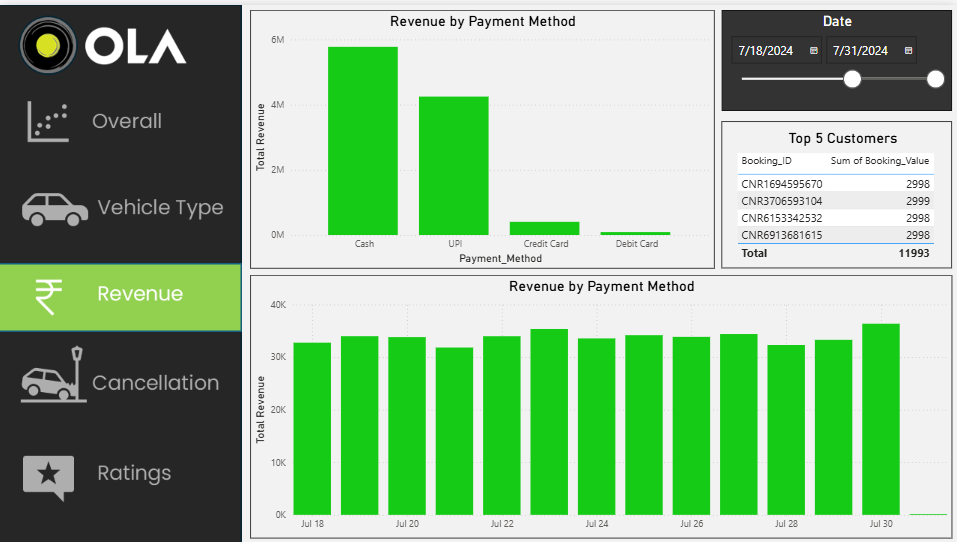

The dashboard page shown, as its layout file describes it:
{"tool":"powerbi","page":{"name":"Revenue","canvas":[1280,720],"ordinal":2},"visuals":[{"type":"actionButton","box":[0,220.6,323.5,92.6],"z":0},{"type":"actionButton","box":[0,341.2,323.5,92.6],"z":1000},{"type":"actionButton","box":[0,451.5,323.5,92.6],"z":2000},{"type":"actionButton","box":[0,583.8,323.5,92.6],"z":3000},{"type":"actionButton","box":[0,108.8,323.5,92.6],"z":4000},{"type":"columnChart","title":"Revenue by Payment Method","fields":{"Category":["July.Payment_Method"],"Y":["Sum(July.Booking_Value)"]},"box":[334.8,6.9,618.9,345],"z":5000},{"type":"columnChart","title":"Revenue by Payment Method","fields":{"Y":["Sum(July.Ride_Distance)"],"Category":["July.Date"]},"box":[334.8,359.5,935.9,351],"z":6000},{"type":"slicer","title":"Date","fields":{"Values":["July.Date"]},"box":[963.3,6.9,307.4,134.5],"z":7000},{"type":"tableEx","title":"Top 5 Customers","fields":{"Values":["July.Booking_ID","Sum(July.Booking_Value)"]},"box":[963.3,155.1,307.4,196.2],"z":8000}]}

Visuals, with their boxes in screenshot pixels (x1, y1, x2, y2), scaled from the page's 1280x720 canvas onto the 957x542 screenshot:
actionButton: {"left": 0, "top": 166, "right": 242, "bottom": 236}
actionButton: {"left": 0, "top": 257, "right": 242, "bottom": 327}
actionButton: {"left": 0, "top": 340, "right": 242, "bottom": 410}
actionButton: {"left": 0, "top": 439, "right": 242, "bottom": 509}
actionButton: {"left": 0, "top": 82, "right": 242, "bottom": 152}
"Revenue by Payment Method" columnChart: {"left": 250, "top": 5, "right": 713, "bottom": 265}
"Revenue by Payment Method" columnChart: {"left": 250, "top": 271, "right": 950, "bottom": 535}
"Date" slicer: {"left": 720, "top": 5, "right": 950, "bottom": 106}
"Top 5 Customers" tableEx: {"left": 720, "top": 117, "right": 950, "bottom": 264}
